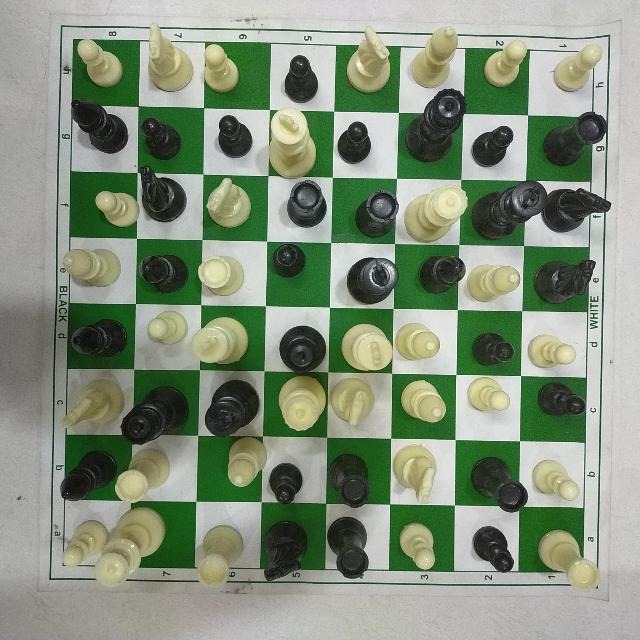black-bishop: (51, 440, 127, 508), (65, 94, 133, 159), (66, 312, 137, 369), (132, 251, 195, 302), (409, 251, 469, 300)
black-king: (462, 168, 550, 242), (194, 376, 262, 443), (336, 248, 402, 310)
black-knight: (532, 179, 619, 243), (129, 157, 196, 231), (526, 253, 606, 314), (254, 518, 318, 588)
black-pawn: (466, 518, 518, 580), (529, 377, 595, 425), (209, 106, 261, 166), (276, 48, 325, 108), (138, 109, 188, 167), (468, 119, 519, 171), (264, 238, 315, 287), (260, 458, 308, 508), (334, 113, 379, 166), (462, 330, 520, 371)
black-queen: (393, 80, 471, 170), (112, 375, 194, 452), (270, 316, 330, 377)
black-rook: (459, 452, 537, 523), (538, 106, 614, 170), (321, 512, 379, 589), (323, 448, 378, 510), (280, 177, 332, 239), (348, 185, 399, 243)
white-bishop: (402, 23, 465, 97), (54, 238, 132, 295), (214, 436, 276, 495), (459, 260, 525, 314), (395, 380, 453, 432), (393, 314, 445, 369)
white-king: (264, 104, 325, 182), (331, 318, 396, 380), (187, 317, 257, 371)
white-knight: (50, 370, 134, 440), (338, 22, 398, 107), (136, 19, 197, 95), (386, 440, 447, 506), (203, 174, 259, 235), (326, 372, 382, 432)
white-pawn: (544, 36, 609, 97), (58, 508, 117, 573), (69, 32, 127, 92), (473, 35, 531, 94), (196, 39, 249, 99), (524, 455, 582, 509), (392, 519, 443, 574), (88, 182, 143, 233), (521, 331, 581, 377), (142, 306, 192, 356), (464, 374, 514, 418)
white-queen: (90, 501, 176, 592), (394, 177, 473, 248), (273, 371, 334, 435)
white-rook: (183, 518, 253, 595), (531, 524, 601, 599), (103, 442, 185, 505), (193, 251, 254, 305)
